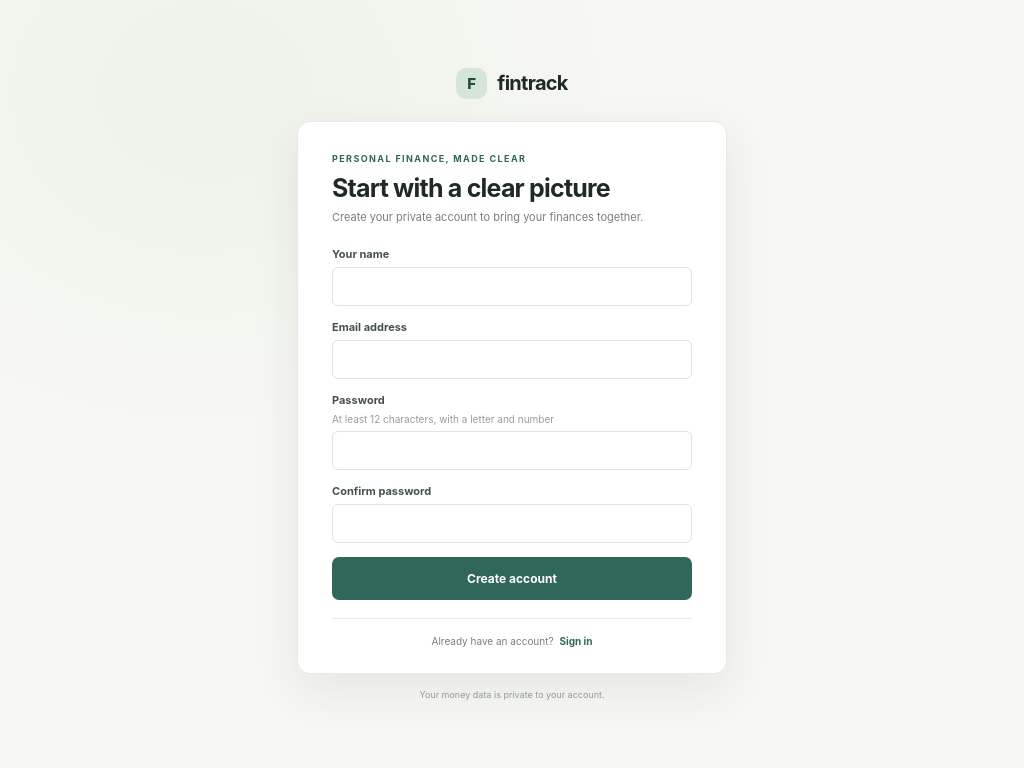
Test: public signup validates input, creates account, stores a session token and opens the dashboard
Type "Asha Example" into the field labelled "Your name" at (512, 287), box [332, 267, 692, 306]
Type "asha@example.com" into the field labelled "Email address" at (512, 360), box [332, 340, 692, 379]
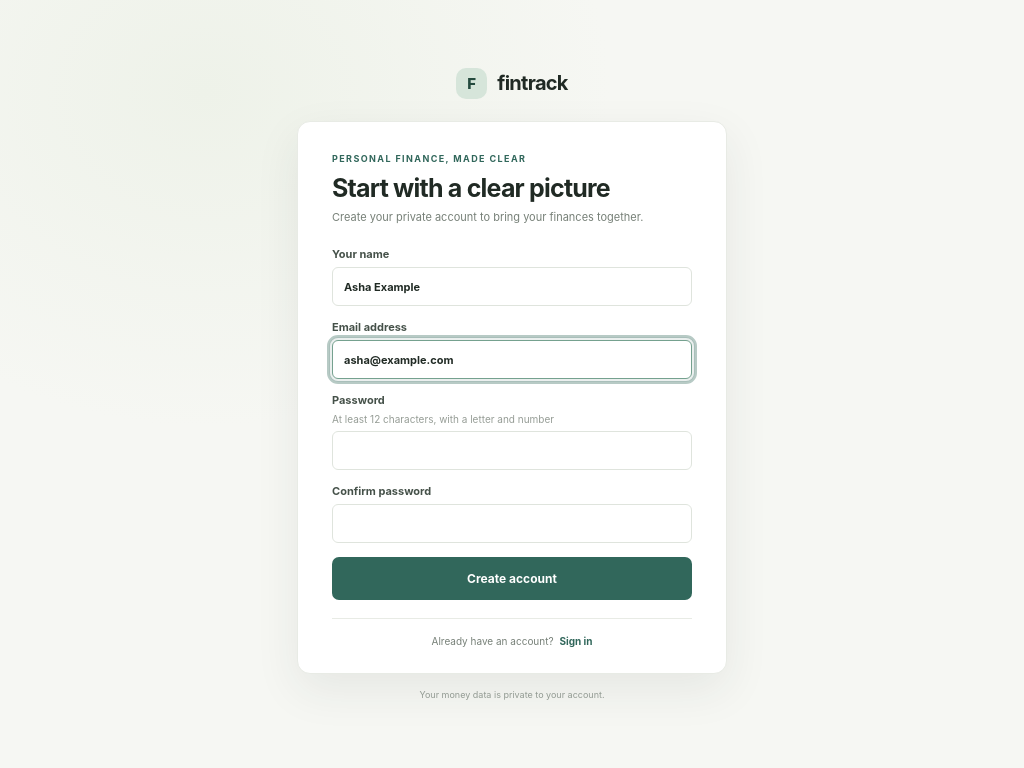
Type "strong-password-123" into the password field labelled "Password At least 12 characters, with a letter and number" at (512, 451), box [332, 431, 692, 470]
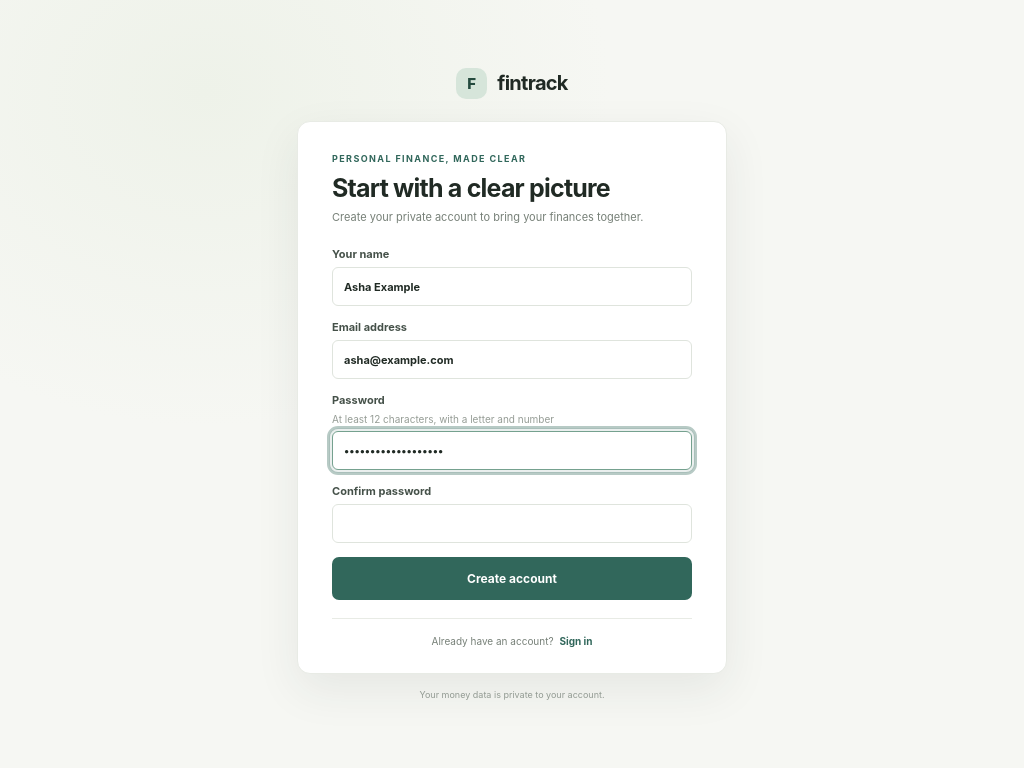
Type "different-password-123" into the password field labelled "Confirm password" at (512, 524), box [332, 504, 692, 543]
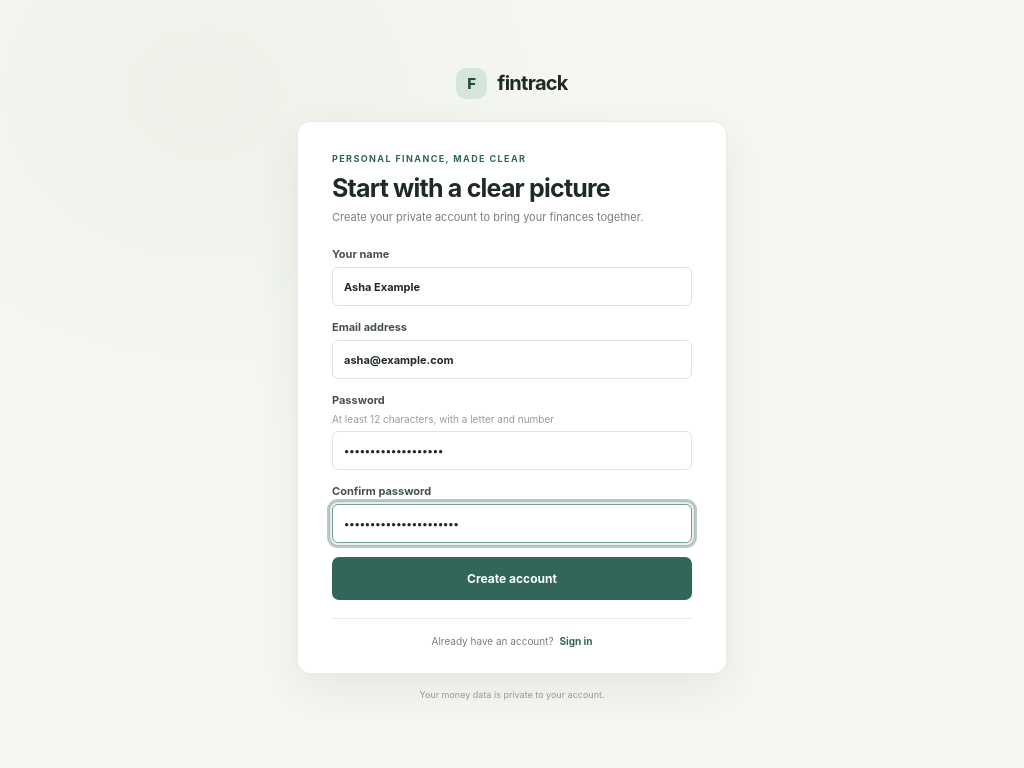
Click the button "Create account" at (512, 579), box [332, 557, 692, 600]
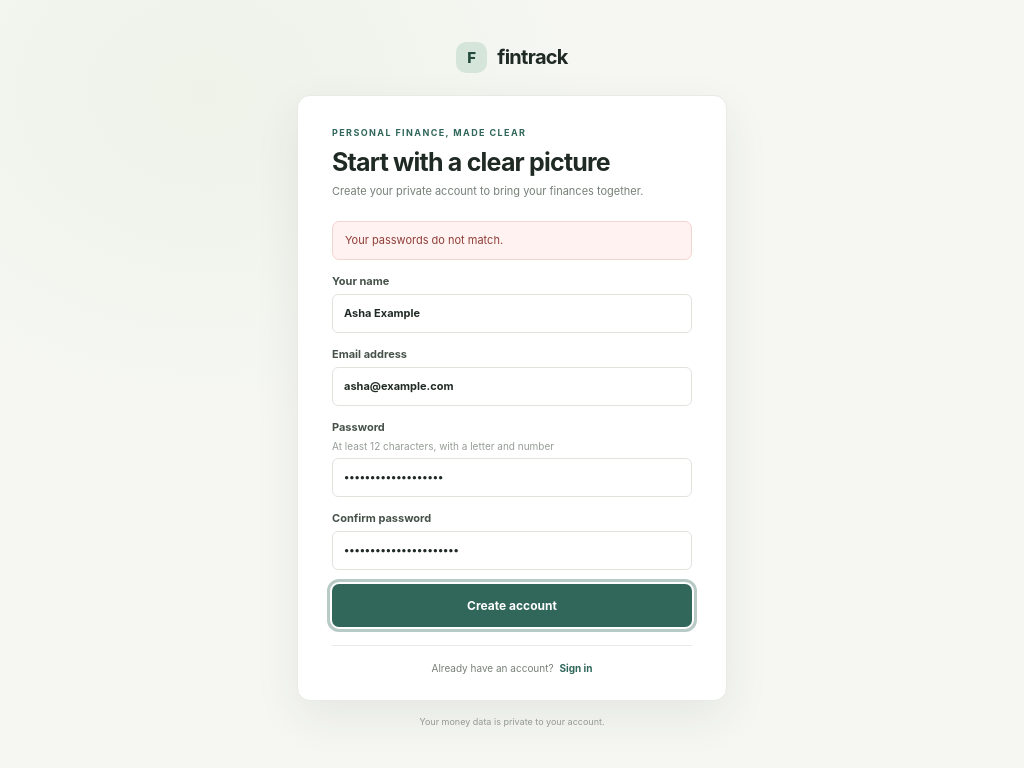
Check: the message reads "Your passwords do not match.", box [345, 233, 503, 247]
Type "strong-password-123" into the password field labelled "Confirm password" at (512, 550), box [332, 530, 692, 570]
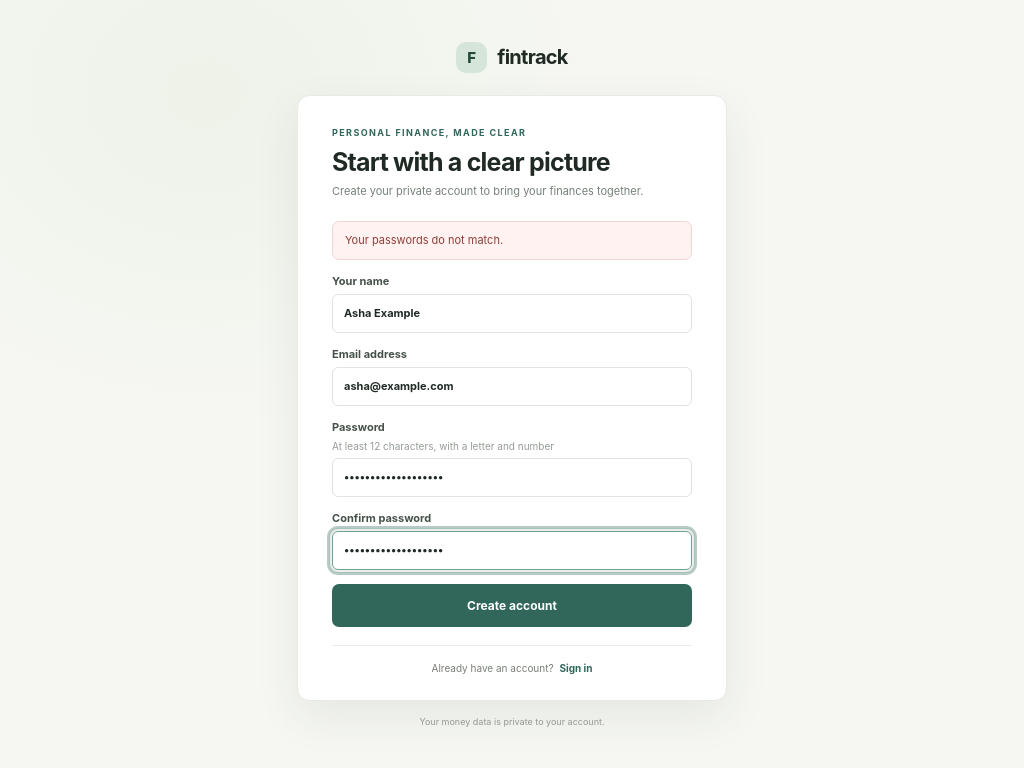
Click the button "Create account" at (512, 605), box [332, 584, 692, 626]
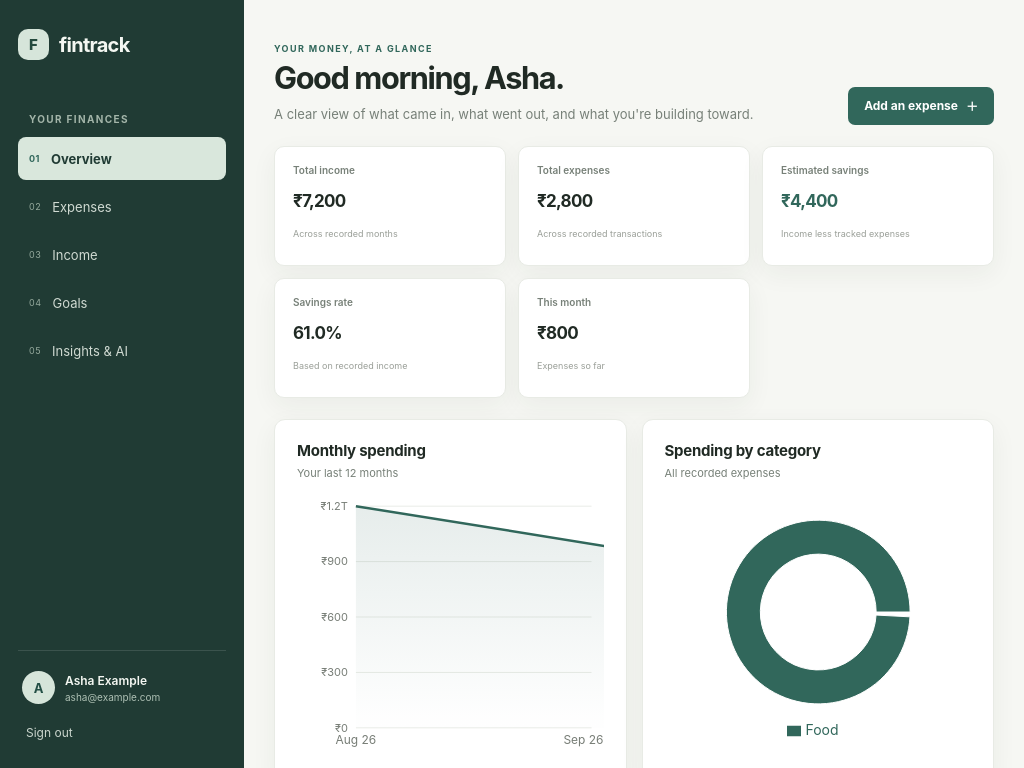
Check: the text "Total income" is shown, box [293, 164, 355, 176]
